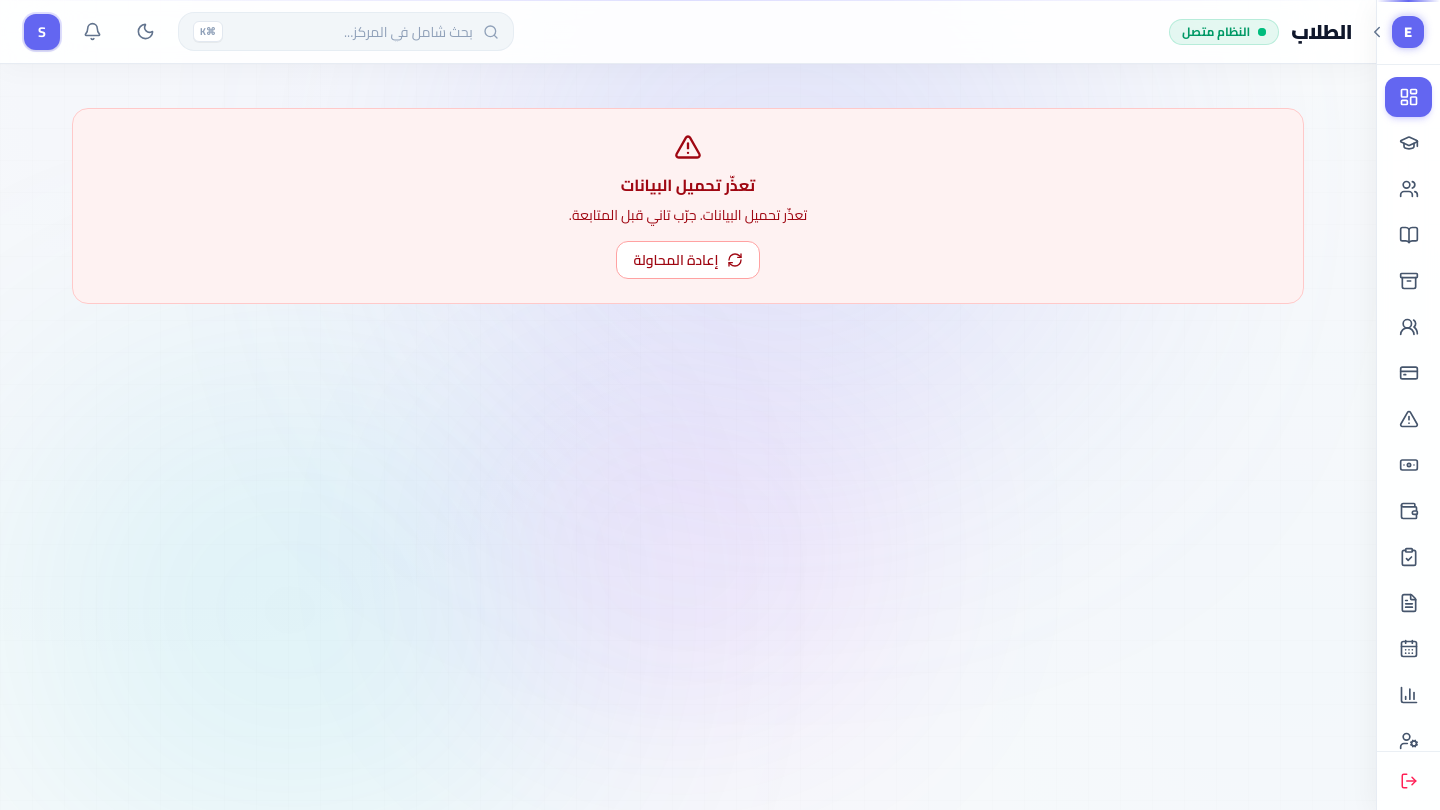
Test: visible page read failures and retry › shows an actionable error, not an empty successful students page
Check: the message is shown, box [72,108,1304,304]
What coordinates should you click on to do the following:
click the button "إعادة المحاولة"
I would click on:
 (688, 260)
Its box is [616,241,760,279].
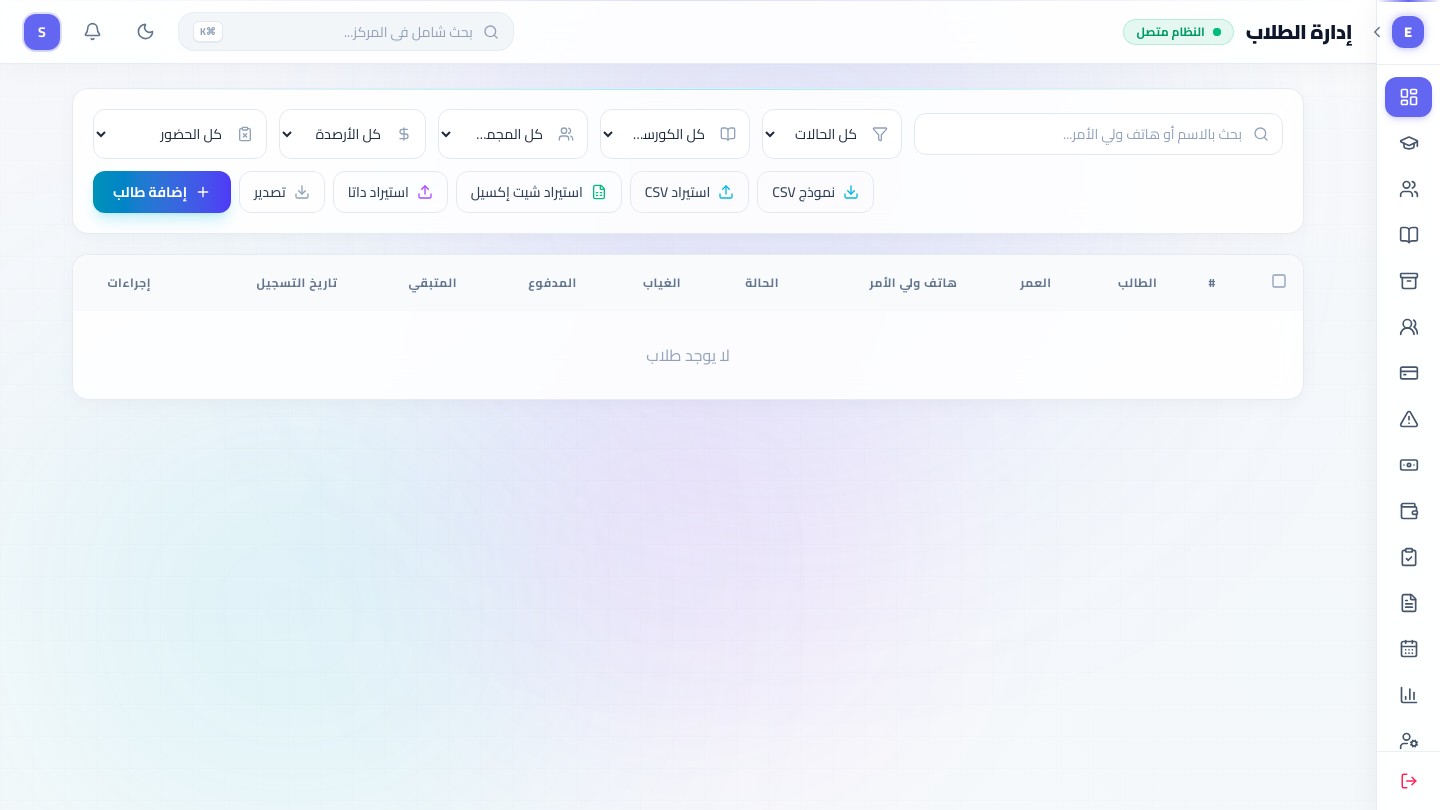
Check: the message is gone
